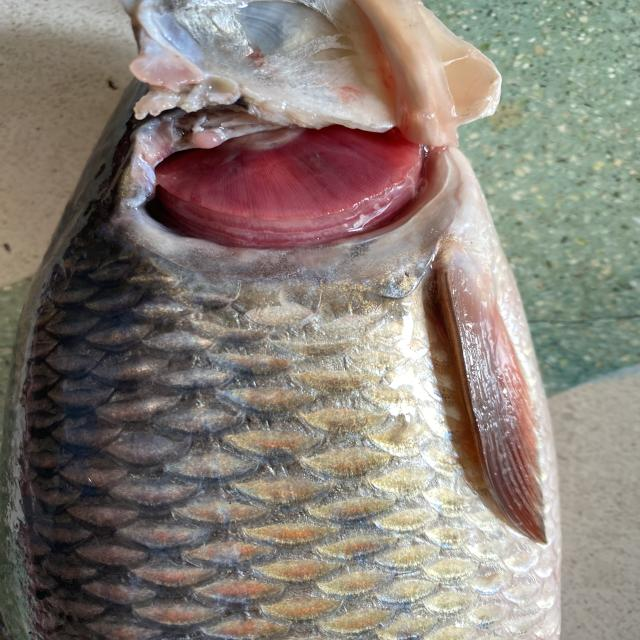Fresh: (29, 267, 531, 640), (121, 89, 472, 254)
